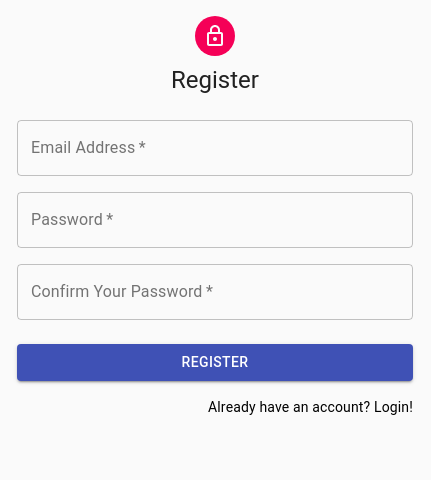
Test: Register page › it displays an error when register is not successful
Type "test@email.com" into the field labelled "Email Address *" at (215, 148), box [17,120,413,176]
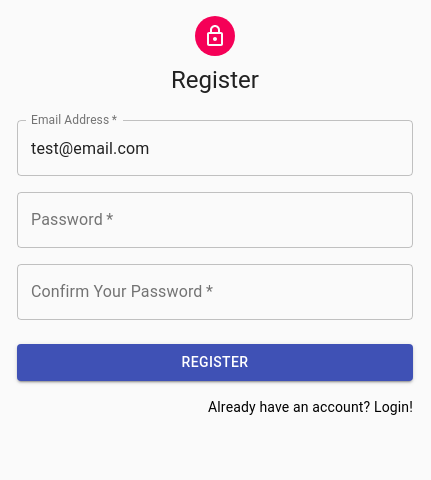
Type "test" into the password field labelled "Password *" at (215, 220), box [17,192,413,248]
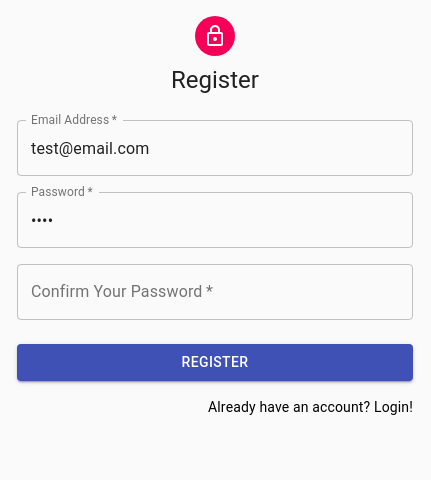
Type "test" into the password field labelled "Confirm Your Password *" at (215, 292), box [17,264,413,320]
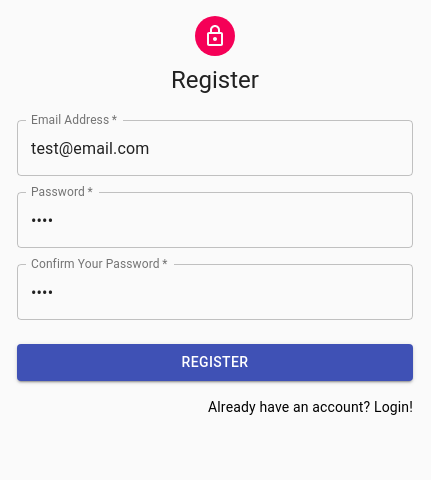
Click the button at (215, 362), box [17,344,413,380]
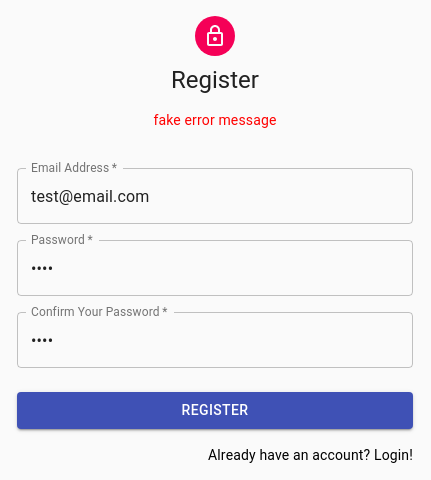
Expected: the text "fake error message" is shown, [154,110,277,130]
